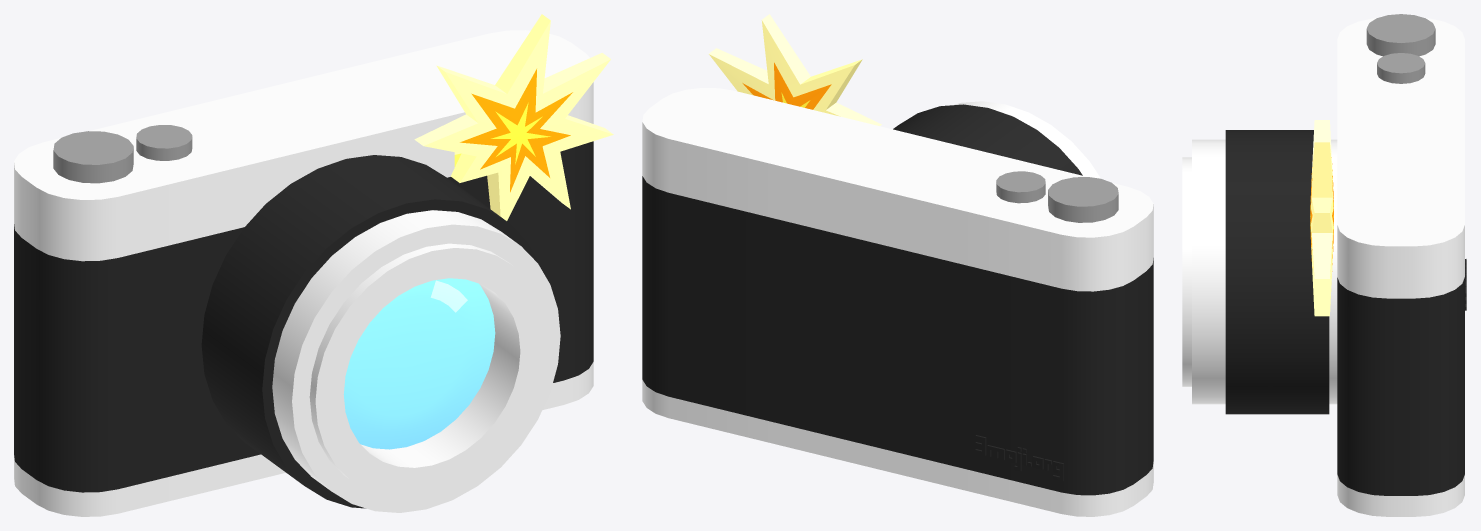
The model's file is camera_with_flash.gltf.
3 views of the same model, side by side, from view 1: azimuth 30°, elevation 25°; view 2: azimuth 150°, elevation 25°; view 3: azimuth 270°, elevation 25° (orthographic). The views are drawn at different scales.
Visible parts, largest first — view 1: Cube.941; view 2: Cube.941; view 3: Cube.941.
Boxes of the visible parts, x1,y1,x2,y2 form: Cube.941: [14, 14, 613, 516]; Cube.941: [642, 14, 1153, 516]; Cube.941: [1182, 14, 1466, 516].
Size of the model in its own units: 2.16 by 1.5 by 1.13.
Materials: 1 (1 with a texture image).
